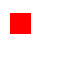square: (10, 13, 30, 33)
